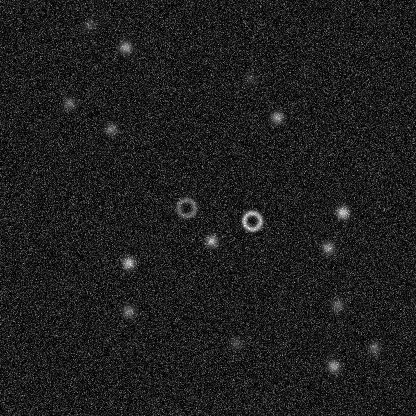Ring: (240, 208, 264, 232), (174, 195, 198, 219)
Spot: (117, 39, 133, 55), (61, 95, 77, 111), (365, 339, 381, 355), (81, 16, 97, 32), (203, 232, 219, 248), (319, 239, 335, 255), (334, 204, 350, 220), (268, 109, 284, 125), (102, 121, 118, 137), (120, 254, 136, 270), (241, 70, 257, 86), (227, 334, 243, 350), (325, 358, 341, 374), (120, 303, 136, 319), (329, 296, 345, 312)
